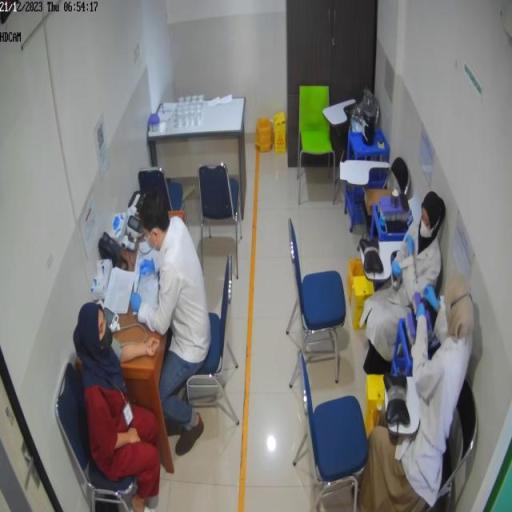person: (356, 274, 475, 512), (132, 192, 211, 456), (73, 302, 161, 512), (359, 192, 446, 381)
